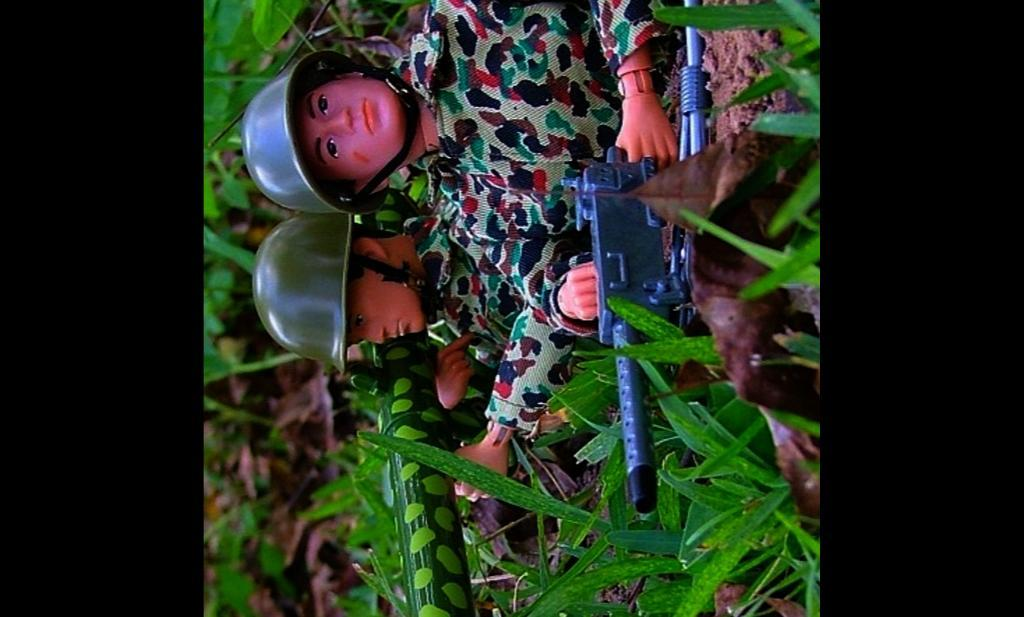gun: (579, 0, 702, 512)
